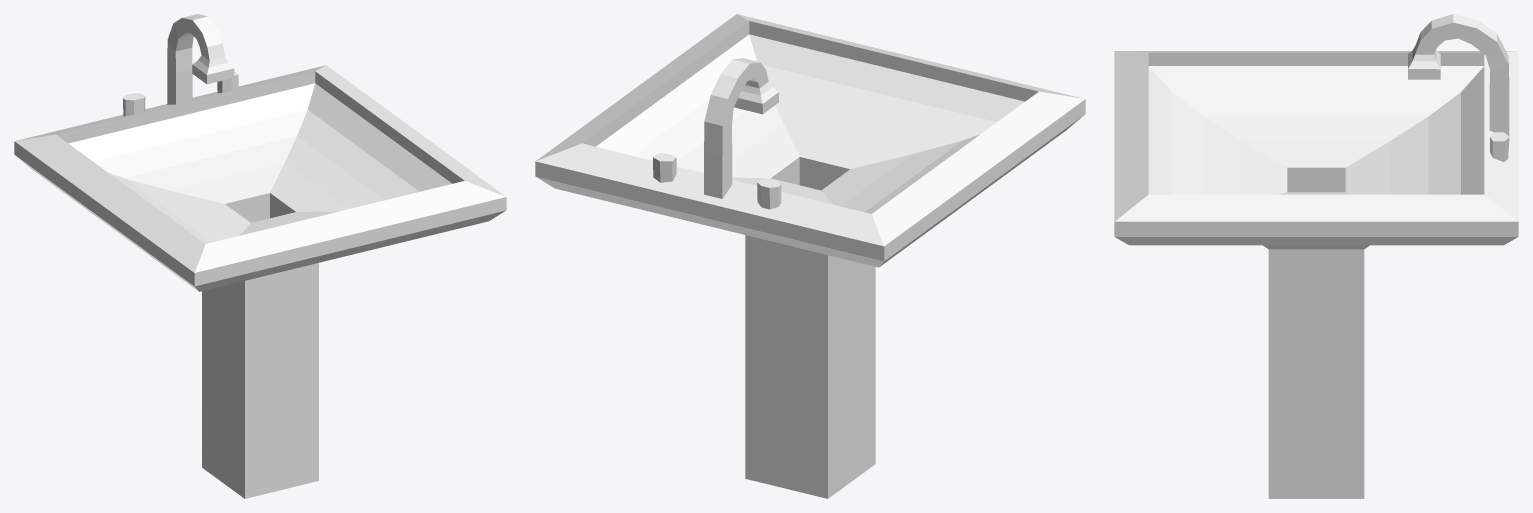
Rendered from sink.obj.
The picture shows the model from 3 angles, left to right: view 1: azimuth 30°, elevation 25°; view 2: azimuth 150°, elevation 25°; view 3: azimuth 270°, elevation 25°; orthographic projection. The views are drawn at different scales.
Visible parts, largest first — view 1: Plane; view 2: Plane; view 3: Plane.
Boxes of the visible parts, box(x1,y1,x2,y2) form: Plane: box(14, 14, 506, 498); Plane: box(535, 14, 1085, 498); Plane: box(1114, 14, 1518, 498).
Size of the model in its own units: 1.97 by 2.48 by 1.97.
